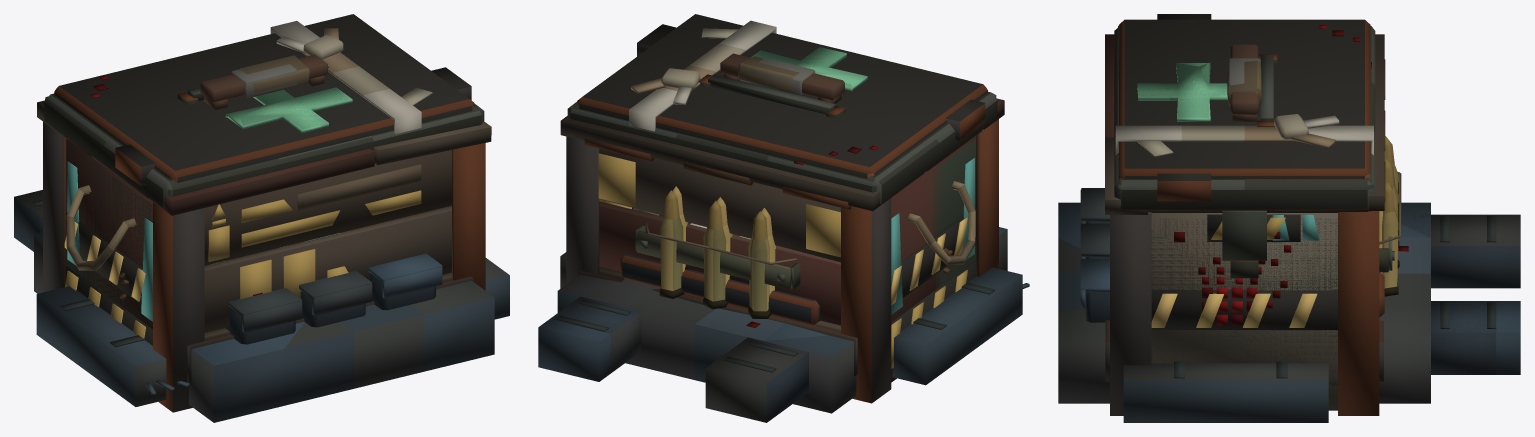
File: pickups.glb
3 views of the same model, side by side, from view 1: azimuth 30°, elevation 25°; view 2: azimuth 150°, elevation 25°; view 3: azimuth 270°, elevation 25° (orthographic). The views are drawn at different scales.
Parts seen in each view (by area): view 1: FrissonPickup_AmmoSpecial_Full_Body, FrissonPickup_Armor_Full_Body, FrissonPickup_Health_Full_Body, FrissonPickup_AmmoSpecial_Light_Body, FrissonPickup_AmmoSpecial_Full_Glint, FrissonPickup_Armor_Light_Body, FrissonPickup_Health_Full_Glint, FrissonPickup_Ammo_Full_Glint, FrissonPickup_Health_Light_Glint, FrissonPickup_Health_Light_Body, FrissonPickup_AmmoSpecial_Light_Glint; view 2: FrissonPickup_AmmoSpecial_Full_Body, FrissonPickup_Armor_Full_Body, FrissonPickup_Health_Full_Body, FrissonPickup_AmmoSpecial_Light_Body, FrissonPickup_Armor_Light_Body, FrissonPickup_AmmoSpecial_Full_Glint, FrissonPickup_Ammo_Full_Glint, FrissonPickup_Health_Light_Glint, FrissonPickup_AmmoSpecial_Light_Glint, FrissonPickup_Health_Light_Body, FrissonPickup_Health_Full_Glint; view 3: FrissonPickup_AmmoSpecial_Full_Body, FrissonPickup_Armor_Full_Body, FrissonPickup_Health_Full_Body, FrissonPickup_AmmoSpecial_Light_Body, FrissonPickup_Armor_Light_Body, FrissonPickup_Health_Full_Glint, FrissonPickup_AmmoSpecial_Light_Glint, FrissonPickup_Health_Light_Glint, FrissonPickup_Health_Light_Body, FrissonPickup_Ammo_Full_Glint.
Part boxes in pixels (left/top/right/bottom): FrissonPickup_AmmoSpecial_Full_Body: left=37, top=67, right=491, bottom=412; FrissonPickup_Armor_Full_Body: left=14, top=190, right=509, bottom=422; FrissonPickup_Health_Full_Body: left=54, top=14, right=474, bottom=182; FrissonPickup_AmmoSpecial_Light_Body: left=44, top=66, right=484, bottom=328; FrissonPickup_AmmoSpecial_Full_Glint: left=65, top=190, right=421, bottom=338; FrissonPickup_Armor_Light_Body: left=191, top=253, right=442, bottom=365; FrissonPickup_Health_Full_Glint: left=225, top=88, right=349, bottom=241; FrissonPickup_Ammo_Full_Glint: left=67, top=161, right=152, bottom=321; FrissonPickup_Health_Light_Glint: left=228, top=87, right=352, bottom=233; FrissonPickup_Health_Light_Body: left=230, top=64, right=432, bottom=105; FrissonPickup_AmmoSpecial_Light_Glint: left=64, top=222, right=302, bottom=301; FrissonPickup_AmmoSpecial_Full_Body: left=560, top=24, right=1004, bottom=403; FrissonPickup_Armor_Full_Body: left=550, top=229, right=1029, bottom=422; FrissonPickup_Health_Full_Body: left=577, top=14, right=987, bottom=215; FrissonPickup_AmmoSpecial_Light_Body: left=567, top=74, right=997, bottom=314; FrissonPickup_Armor_Light_Body: left=538, top=227, right=1007, bottom=381; FrissonPickup_AmmoSpecial_Full_Glint: left=598, top=153, right=967, bottom=368; FrissonPickup_Ammo_Full_Glint: left=891, top=158, right=974, bottom=314; FrissonPickup_Health_Light_Glint: left=751, top=47, right=867, bottom=89; FrissonPickup_AmmoSpecial_Light_Glint: left=599, top=199, right=967, bottom=304; FrissonPickup_Health_Light_Body: left=701, top=28, right=815, bottom=95; FrissonPickup_Health_Full_Glint: left=754, top=47, right=867, bottom=91; FrissonPickup_AmmoSpecial_Full_Body: left=1105, top=14, right=1401, bottom=415; FrissonPickup_Armor_Full_Body: left=1058, top=188, right=1520, bottom=422; FrissonPickup_Health_Full_Body: left=1115, top=19, right=1373, bottom=178; FrissonPickup_AmmoSpecial_Light_Body: left=1114, top=25, right=1394, bottom=405; FrissonPickup_Armor_Light_Body: left=1058, top=202, right=1520, bottom=374; FrissonPickup_Health_Full_Glint: left=1138, top=62, right=1227, bottom=117; FrissonPickup_AmmoSpecial_Light_Glint: left=1151, top=293, right=1317, bottom=327; FrissonPickup_Health_Light_Glint: left=1137, top=63, right=1227, bottom=121; FrissonPickup_Health_Light_Body: left=1137, top=58, right=1260, bottom=156; FrissonPickup_Ammo_Full_Glint: left=1272, top=214, right=1319, bottom=240.
Size of the model in its own units: 0.4804 by 0.3367 by 0.496.
